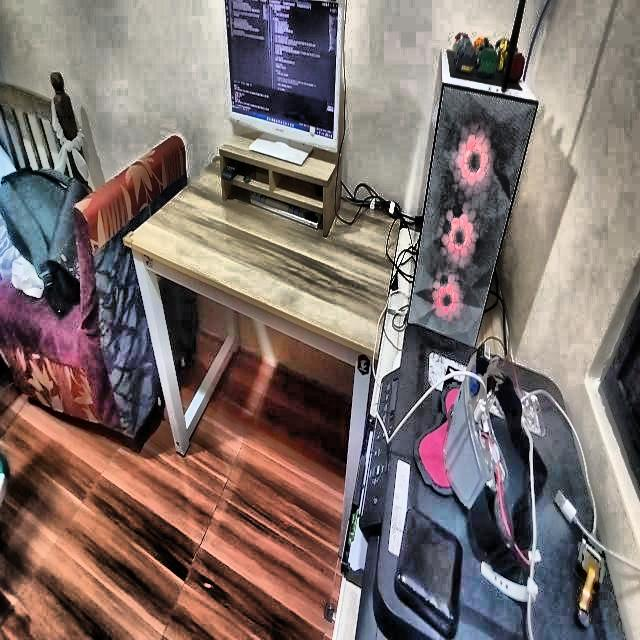mesa: (131, 144, 408, 492)
